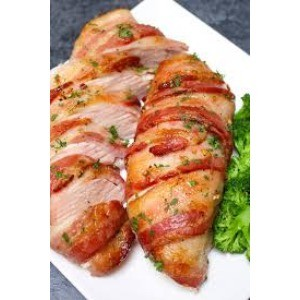chicken breast_brain food: (133, 107, 225, 252), (55, 101, 120, 273)
